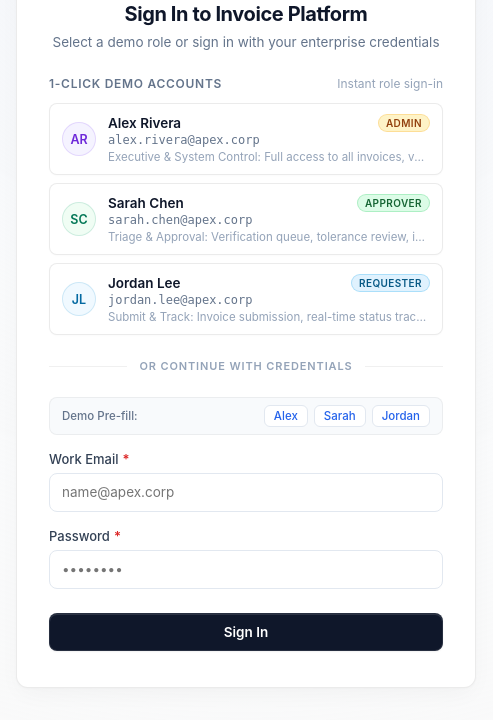
Test: LandingPage (PayVerify Enterprise Authentication Landing) › Sign-In Form (Manual Email & Password) › validates required email and password fields on submit
(page scrolled)
Click the button with test id "login-submit-button" at [246, 632], box 49,613 -> 443,651
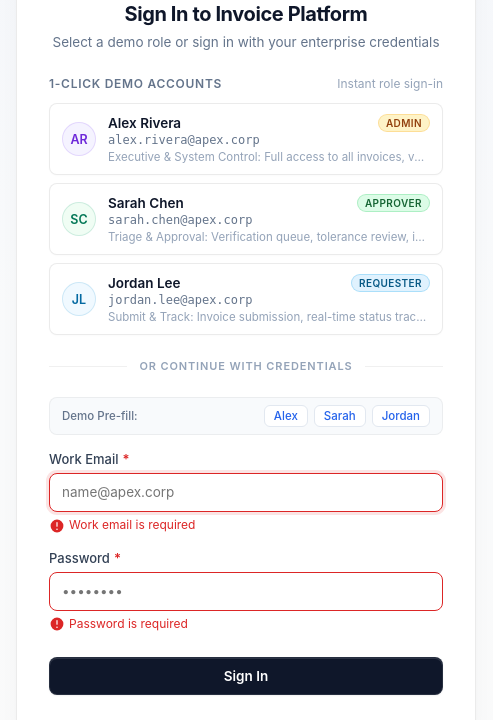
Expected: the text "Work email is required" is shown, 69,517 -> 196,534
Expected: the text "Password is required" is shown, 69,616 -> 188,633
